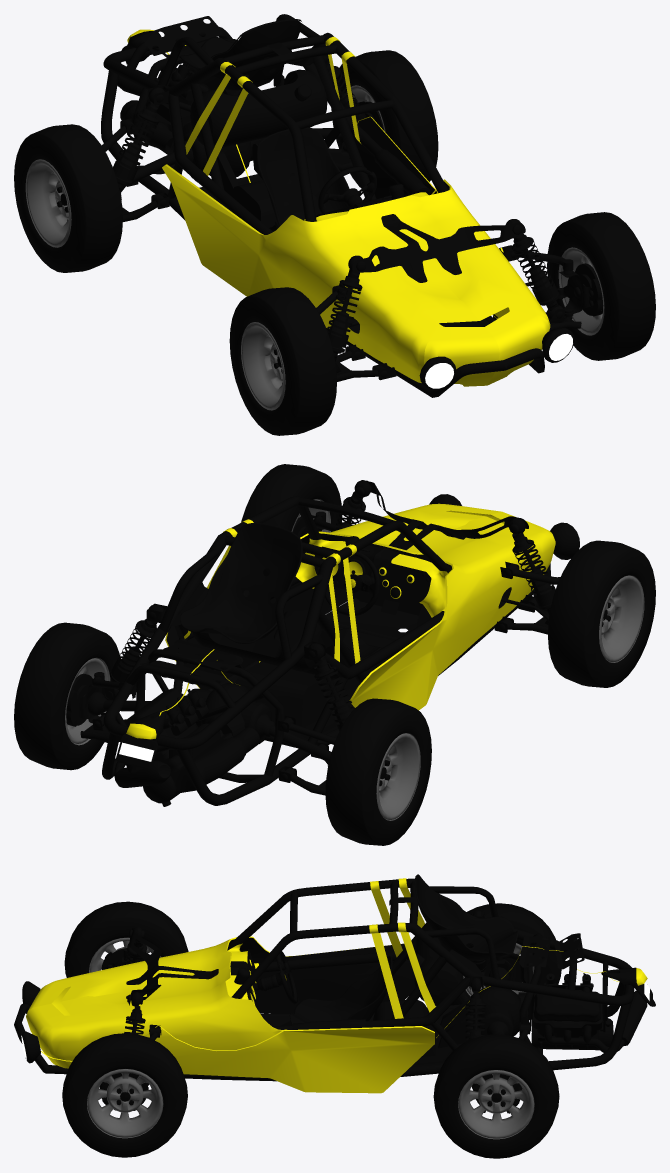
The model's file is buggy.glb.
3 renders of one model, top to bottom at view 1: azimuth 30°, elevation 25°; view 2: azimuth 150°, elevation 25°; view 3: azimuth 270°, elevation 25°, orthographic. The views are drawn at different scales.
Parts seen in each view (by area): view 1: chassis_0, chassis.004_4, chassis.001_1, chassis.002_2, chassis.003_3; view 2: chassis_0, chassis.001_1, chassis.004_4, chassis.003_3, chassis.002_2; view 3: chassis_0, chassis.003_3, chassis.002_2, chassis.001_1, chassis.004_4.
Boxes of the visible parts, x1,y1,x2,y2 form: chassis_0: [57, 14, 603, 397]; chassis.004_4: [14, 124, 122, 272]; chassis.001_1: [229, 287, 336, 435]; chassis.002_2: [547, 212, 655, 360]; chassis.003_3: [331, 50, 438, 188]; chassis_0: [66, 480, 610, 806]; chassis.001_1: [548, 540, 655, 687]; chassis.004_4: [325, 698, 431, 845]; chassis.003_3: [14, 622, 119, 770]; chassis.002_2: [241, 464, 342, 576]; chassis_0: [14, 874, 655, 1113]; chassis.003_3: [433, 1034, 559, 1158]; chassis.002_2: [62, 1033, 187, 1157]; chassis.001_1: [64, 901, 188, 977]; chassis.004_4: [451, 903, 561, 1019].
Bounding box in the file's own units: 2.41 × 1.54 × 4.34.
